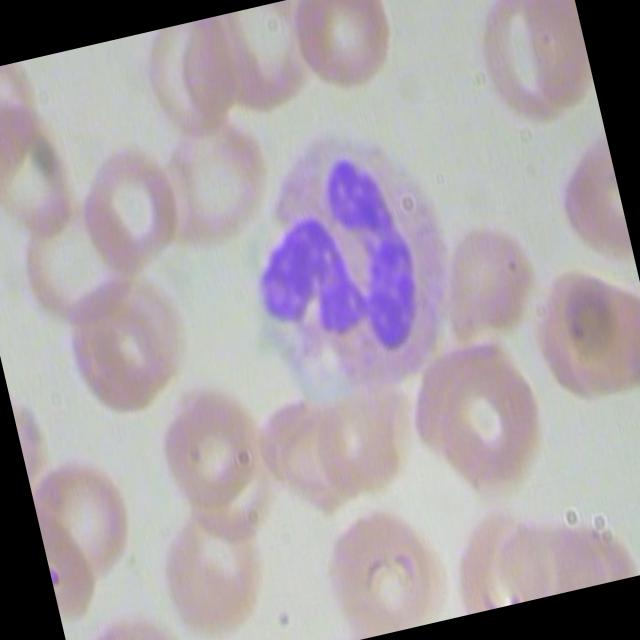RBC: (401, 338, 564, 505), (313, 481, 457, 640), (138, 489, 282, 640), (67, 132, 196, 286), (26, 439, 154, 594), (432, 216, 543, 351), (287, 0, 414, 97)
WBC: (215, 102, 483, 418)
